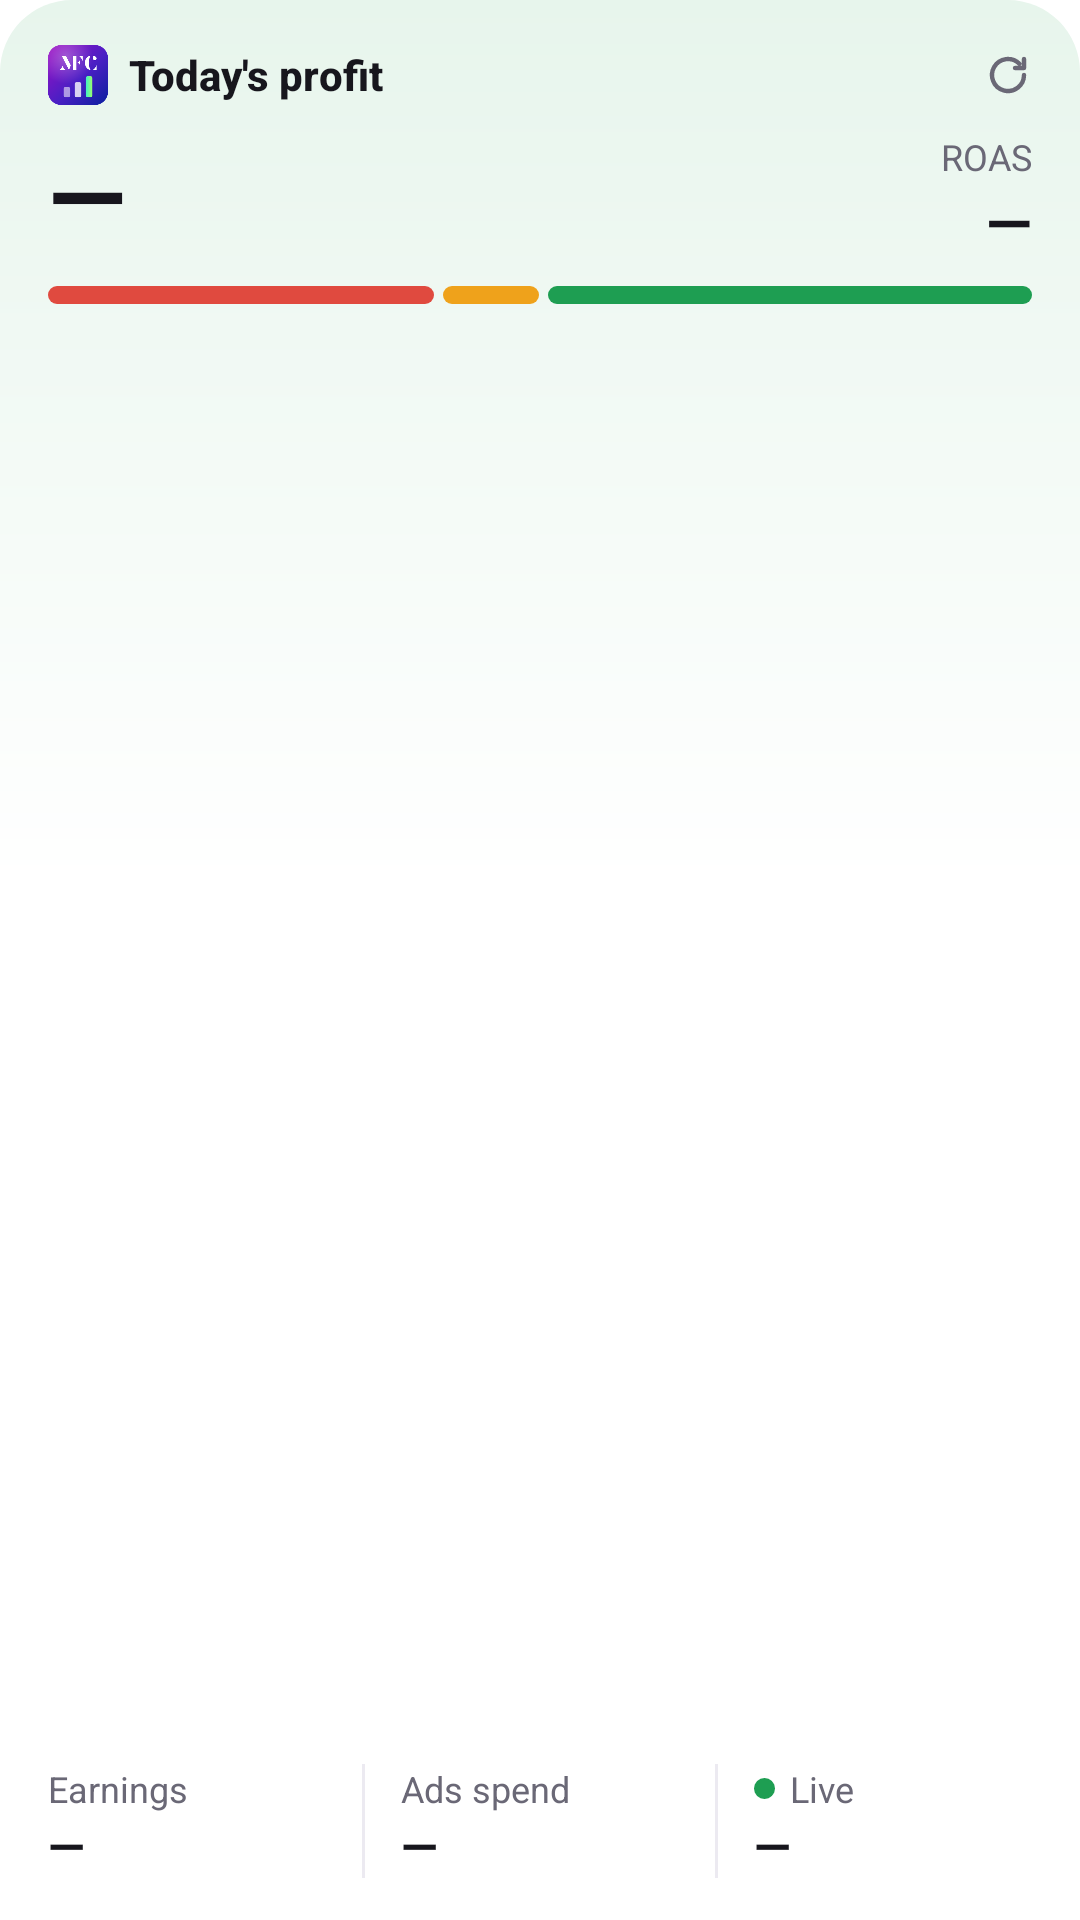

Named icons in this screenshot (1080 x 1920) and their bounding boxes, (x1, y1, x2, y2):
widget refresh: (989, 56, 1027, 94)
